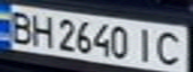0: (109, 22, 133, 61)
2: (54, 16, 78, 53)
4: (90, 20, 112, 57)
6: (72, 19, 96, 55)
B: (3, 7, 36, 45)
C: (151, 28, 187, 66)
H: (27, 11, 57, 48)
I: (133, 25, 160, 63)
